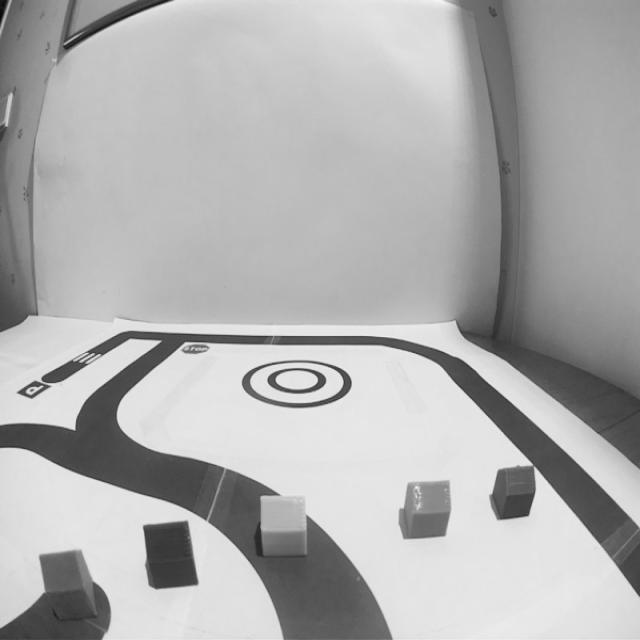cockade: (239, 354, 355, 410)
home: (38, 549, 98, 622), (143, 520, 200, 590), (258, 492, 310, 560), (402, 479, 451, 539), (488, 464, 538, 522)
laneLeftTurn: (197, 455, 402, 640)
